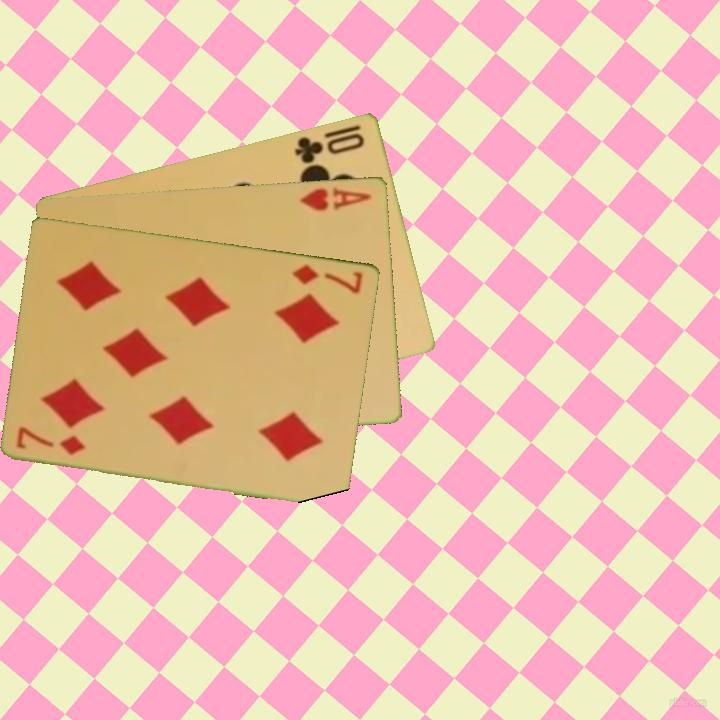10c: (291, 129, 368, 166)
7d: (289, 261, 366, 296), (13, 424, 89, 457)
Ah: (296, 183, 374, 214)
